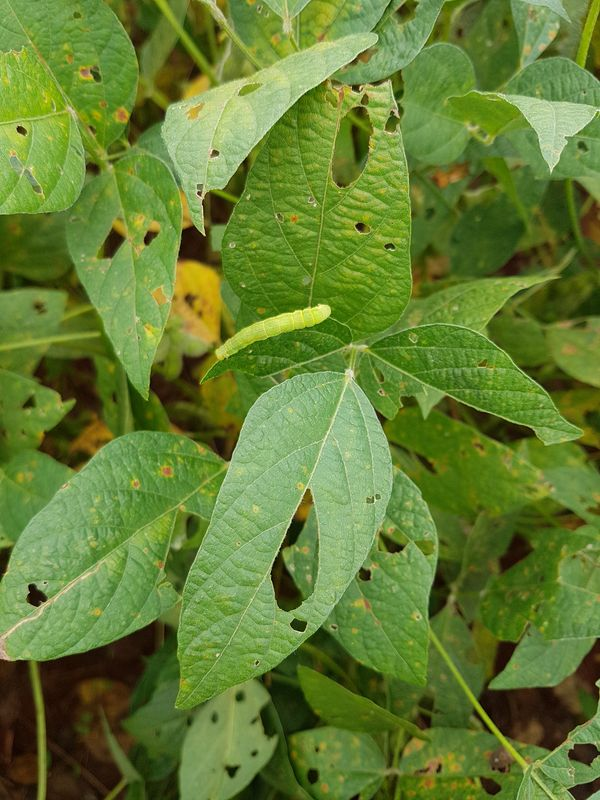Anticarsia_gemmatalis: (204, 290, 344, 384)
Euschistus_heros_adulto: (484, 741, 521, 773)
